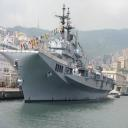Portanaves: (2, 5, 117, 105)
